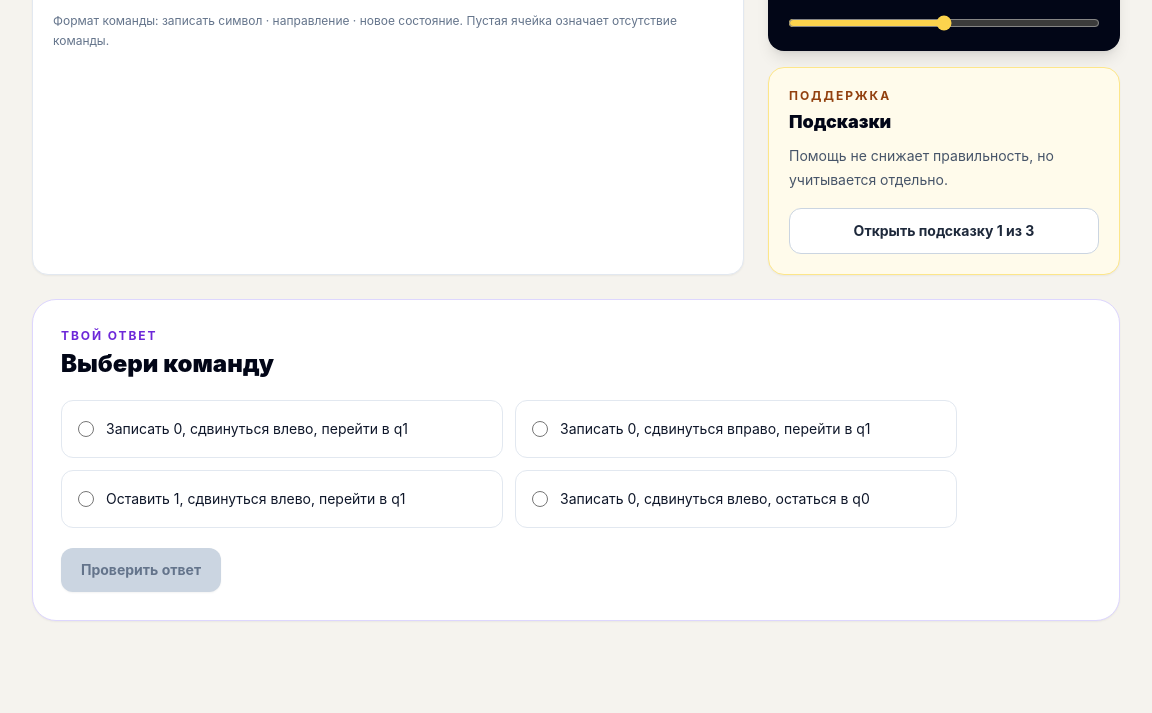
Scenario: экран учебной задачи › проходит задачу на восстановление отсутствующей команды
(page scrolled)
Step 1. Click the radio button labelled "Записать 0, сдвинуться влево, перейти в q1" → (86, 428), box top-left (78, 420), bottom-right (94, 436)
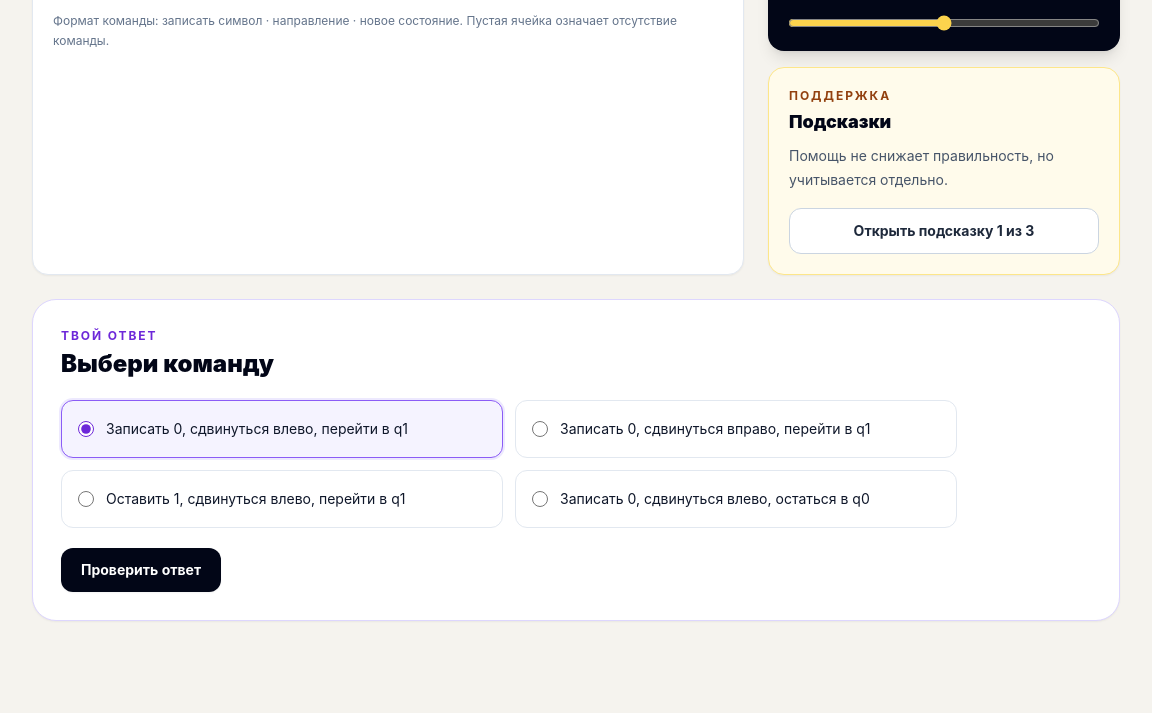
Step 2. Click the button "Проверить ответ" → (141, 570), box top-left (61, 548), bottom-right (221, 592)
(page scrolled)
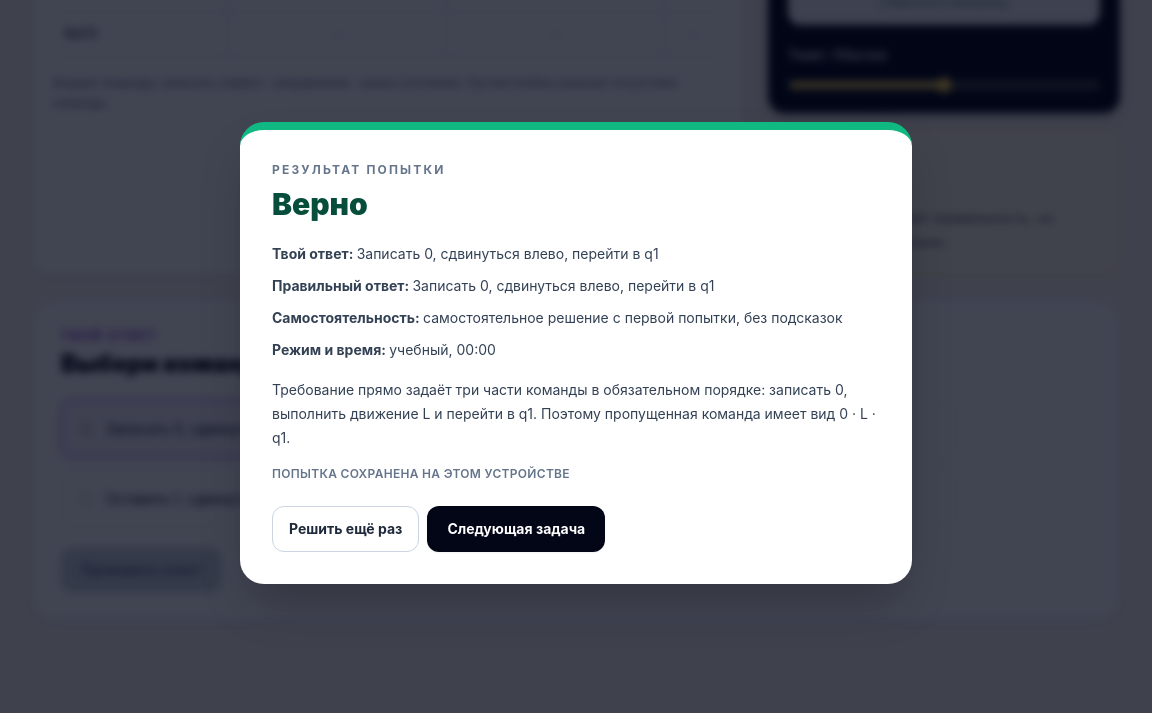
Check: the message shows "Верно", box top-left (272, 186), bottom-right (368, 222)
Check: the message shows "0 · L · q1", box top-left (272, 381), bottom-right (876, 446)
